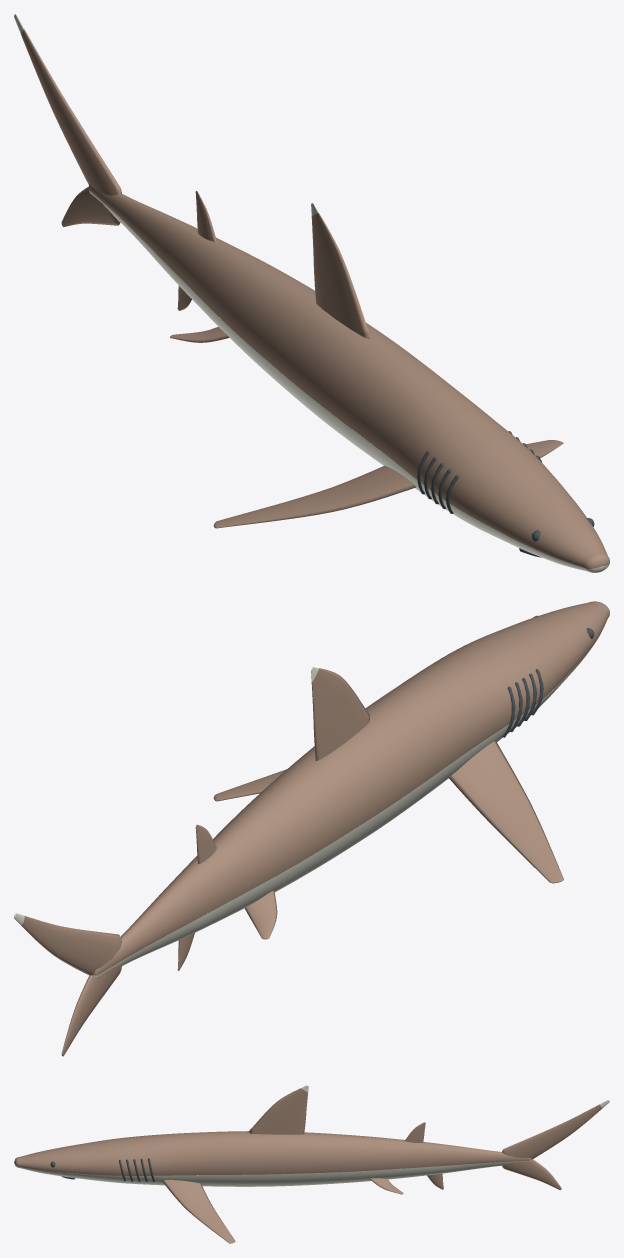
Rendered from ocean-giants-kit-whitetip-reef-shark-2c2586f4__39335.glb.
3 views of the same model, one above another, from view 1: azimuth 30°, elevation 25°; view 2: azimuth 150°, elevation 25°; view 3: azimuth 270°, elevation 25° (orthographic). The views are drawn at different scales.
Parts seen in each view (by area): view 1: whitetip-reef-shark; view 2: whitetip-reef-shark; view 3: whitetip-reef-shark.
Part boxes in pixels (left/top/right/bottom): whitetip-reef-shark: left=14, top=14, right=609, bottom=572; whitetip-reef-shark: left=14, top=601, right=609, bottom=1056; whitetip-reef-shark: left=14, top=1085, right=609, bottom=1243.
Bounding box in the file's own units: 0.5819 × 0.3632 × 1.7.
